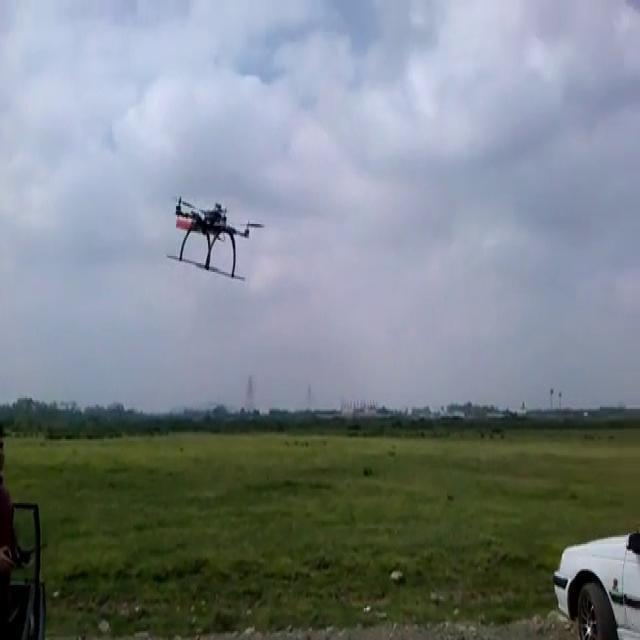drone: (162, 192, 266, 281)
